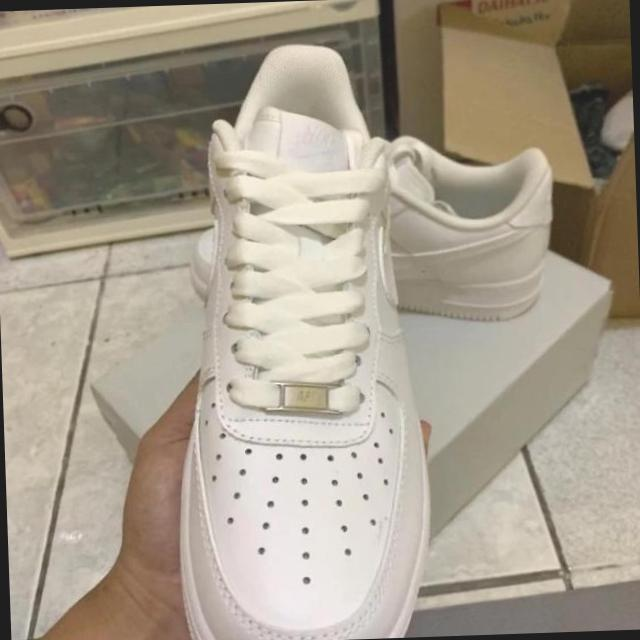nike_original_airforce: (157, 37, 434, 640)
